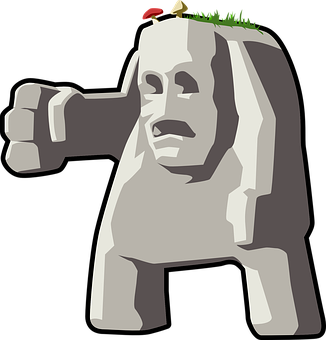fist: (8, 77, 74, 180)
